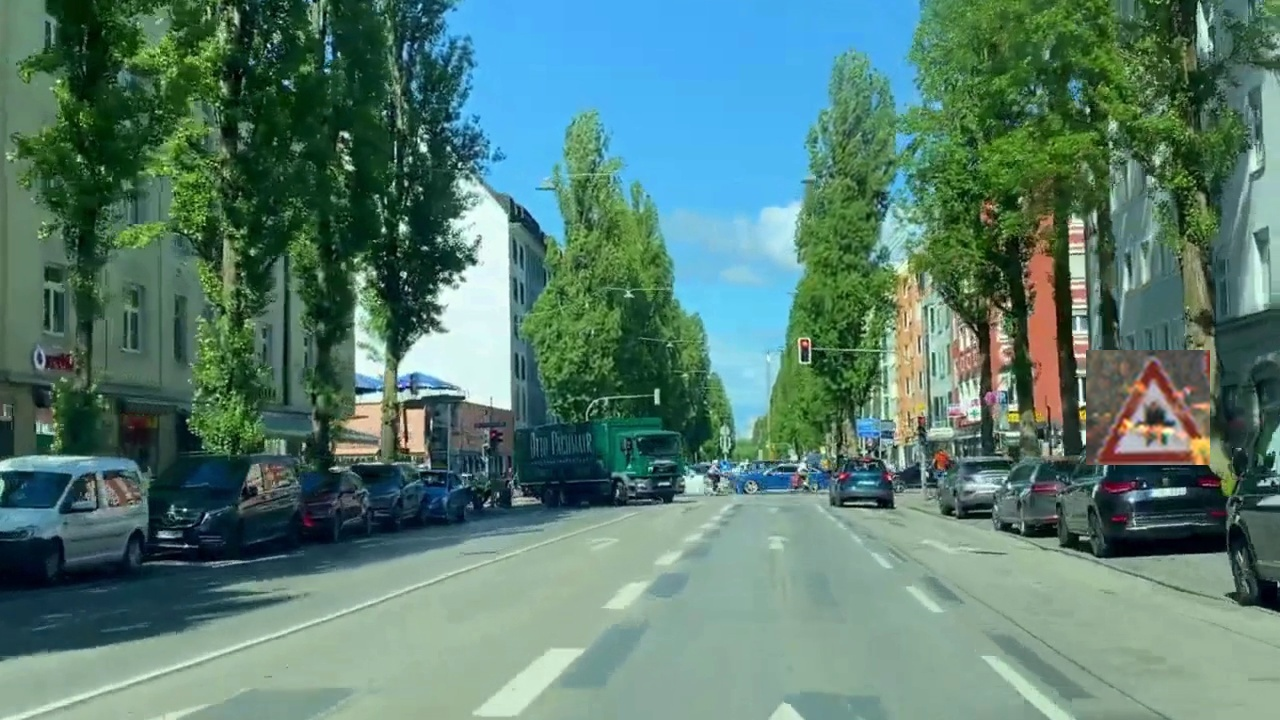Right-of-way: (1086, 350, 1210, 465)
